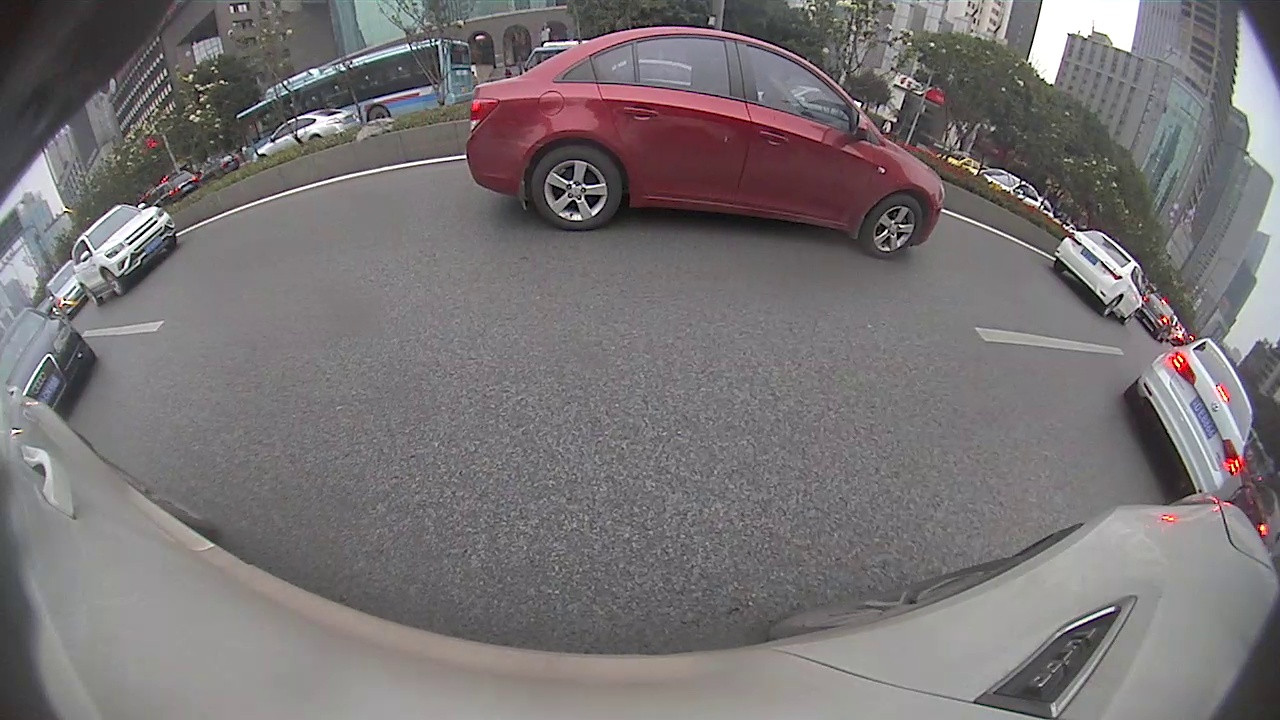car: (466, 24, 946, 259), (1121, 333, 1255, 498), (70, 201, 178, 304), (1, 298, 97, 413), (1053, 228, 1148, 325)
front: (862, 199, 928, 257), (101, 268, 124, 297)
rear: (533, 142, 621, 233), (1100, 294, 1123, 318), (367, 106, 389, 128)
